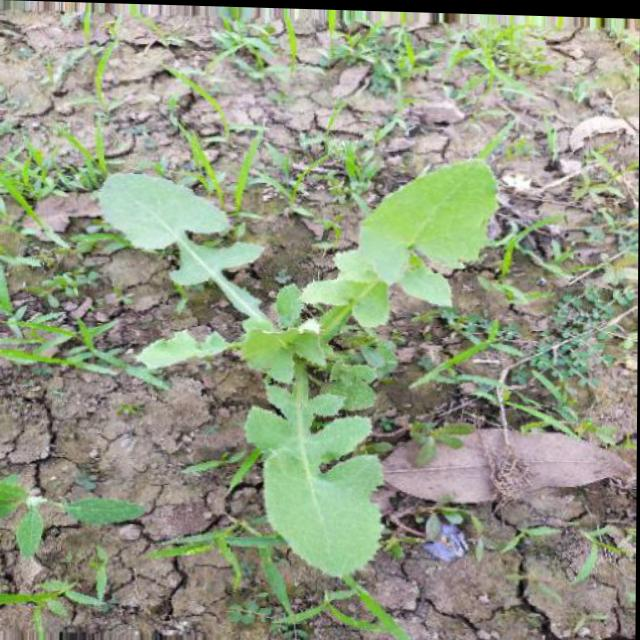weed: (83, 153, 534, 593)
